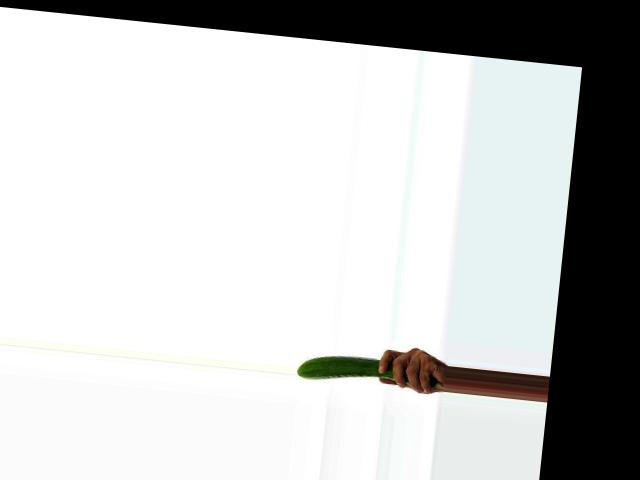cucumber: (295, 351, 443, 393)
